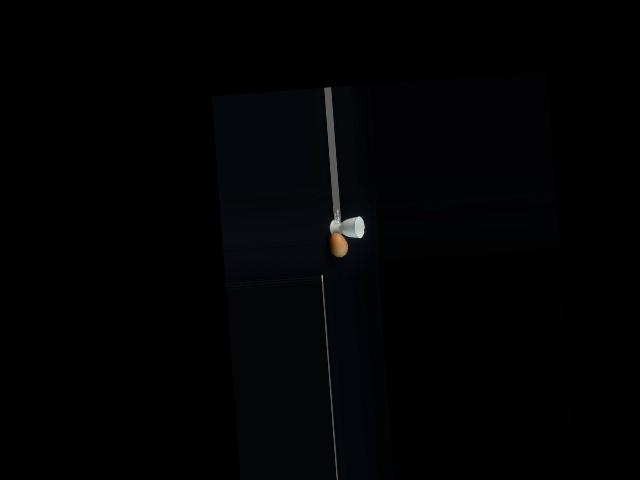egg: (329, 231, 348, 257)
